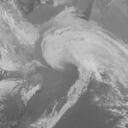cyclone: (42, 18, 118, 73)
